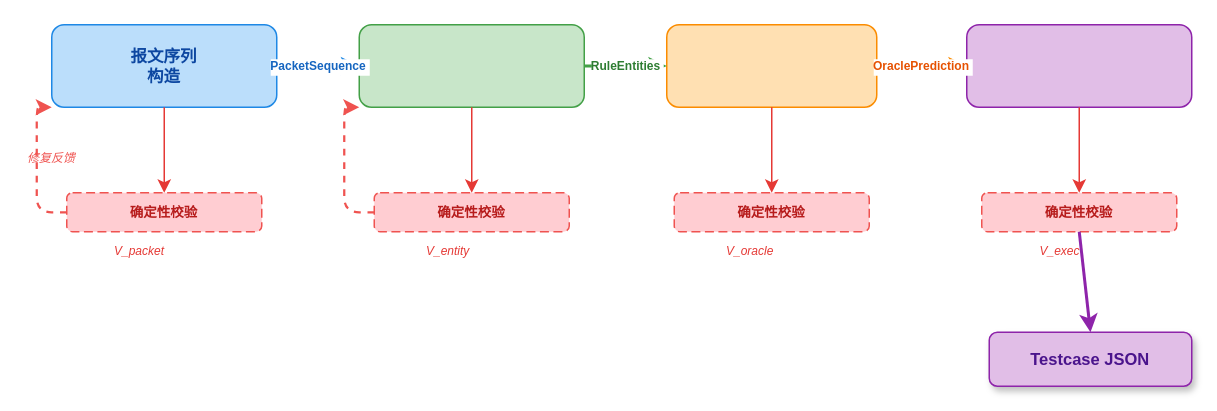
Some shapes in this 1217 by 411 pixel diagram are drawn without their labels. The shapes that lost their labels are listed below. From the top down, each one's centre as x and y in pixels, then its label:
At (471,65): "控制面 规则生成".
At (771,65): "预言机 预测".
At (1078,65): "执行序列 组装".
